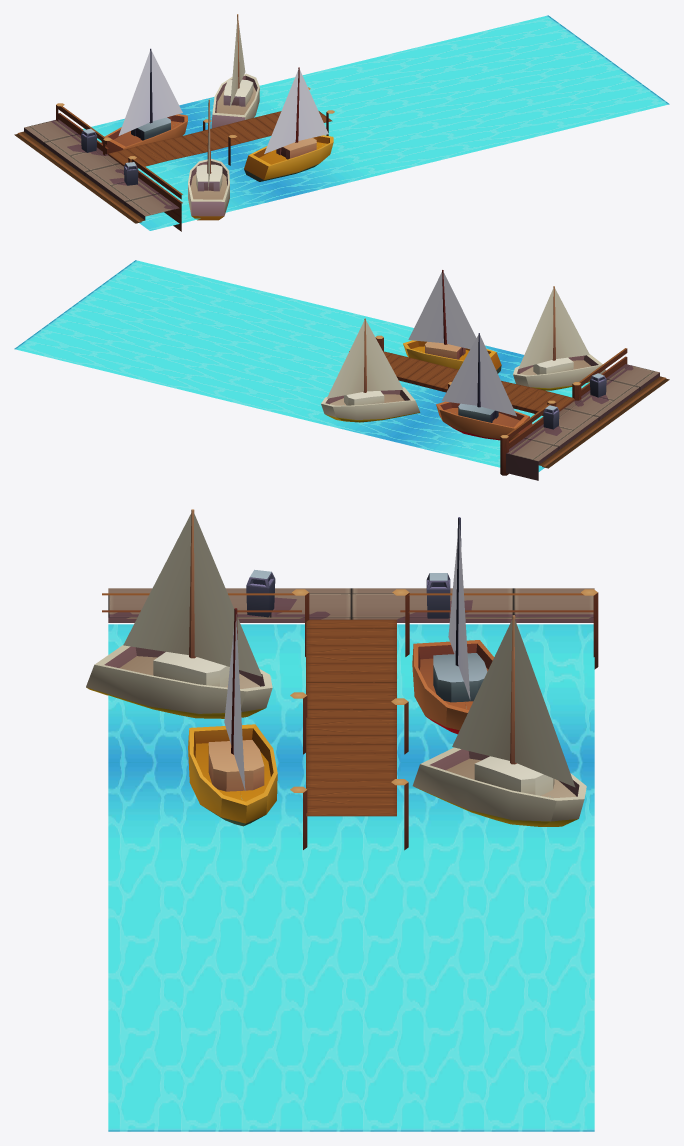
File: 1.100_SanFrancisco_low_01_left.glb
3 views of the same model, one above another, from view 1: azimuth 30°, elevation 25°; view 2: azimuth 150°, elevation 25°; view 3: azimuth 270°, elevation 25° (orthographic). The views are drawn at different scales.
Visible parts, largest first — view 1: 1.100_SanFrancisco_low_01_left; view 2: 1.100_SanFrancisco_low_01_left; view 3: 1.100_SanFrancisco_low_01_left.
Part boxes in pixels (x1=…): 1.100_SanFrancisco_low_01_left: x1=14, y1=14, x2=669, y2=231; 1.100_SanFrancisco_low_01_left: x1=14, y1=260, x2=669, y2=480; 1.100_SanFrancisco_low_01_left: x1=86, y1=509, x2=598, y2=1131.
Bounding box in the file's own units: 457 × 84.42 × 190.
3 materials, 3 textured.
